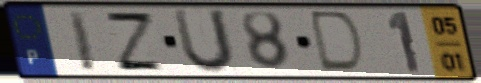1: (385, 9, 425, 76)
8: (240, 10, 290, 75)
D: (309, 9, 368, 76)
I: (64, 8, 100, 74)
U: (169, 7, 238, 77)
Z: (101, 10, 169, 73)
